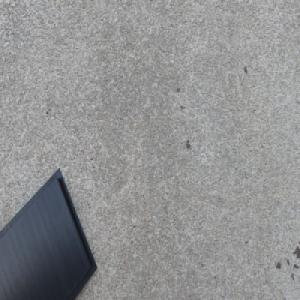PlasticPart: (0, 167, 98, 300)
